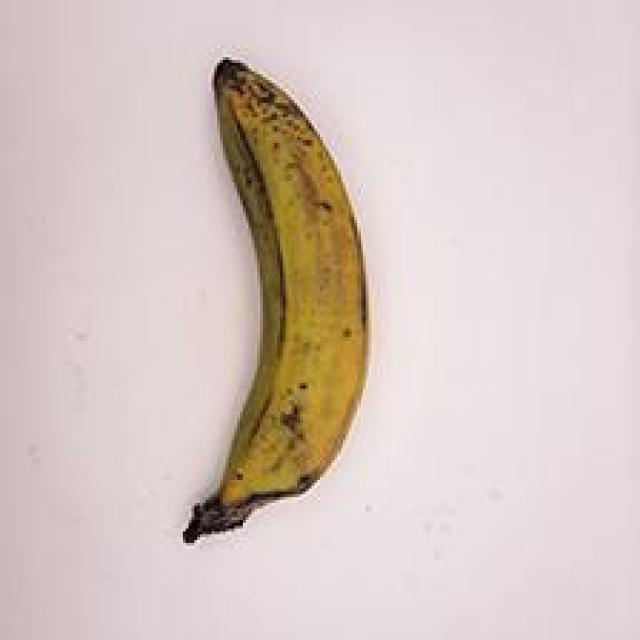Overripe: (156, 25, 412, 570)
